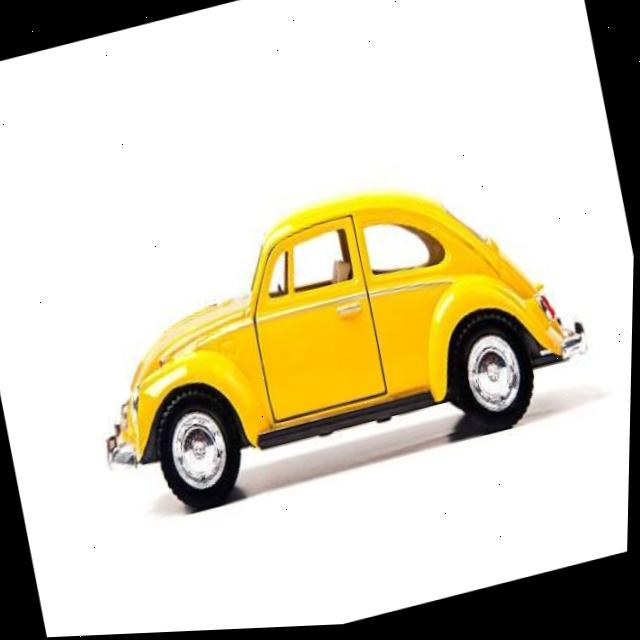vehicle: (58, 151, 613, 538)
